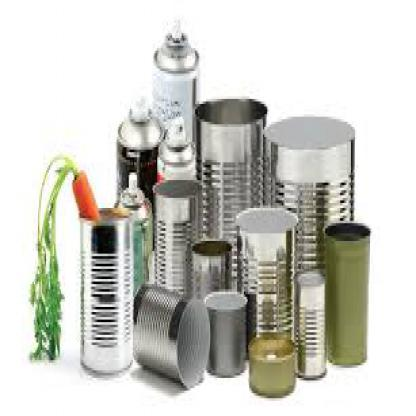METAL: (193, 96, 266, 294), (262, 117, 354, 269), (234, 206, 297, 342), (131, 282, 210, 386), (79, 216, 130, 370), (324, 218, 368, 363), (153, 178, 201, 294), (153, 53, 197, 145), (203, 290, 247, 376), (293, 269, 325, 378), (115, 122, 161, 193), (245, 330, 294, 393), (115, 196, 149, 282), (190, 238, 229, 292), (156, 140, 194, 182)
